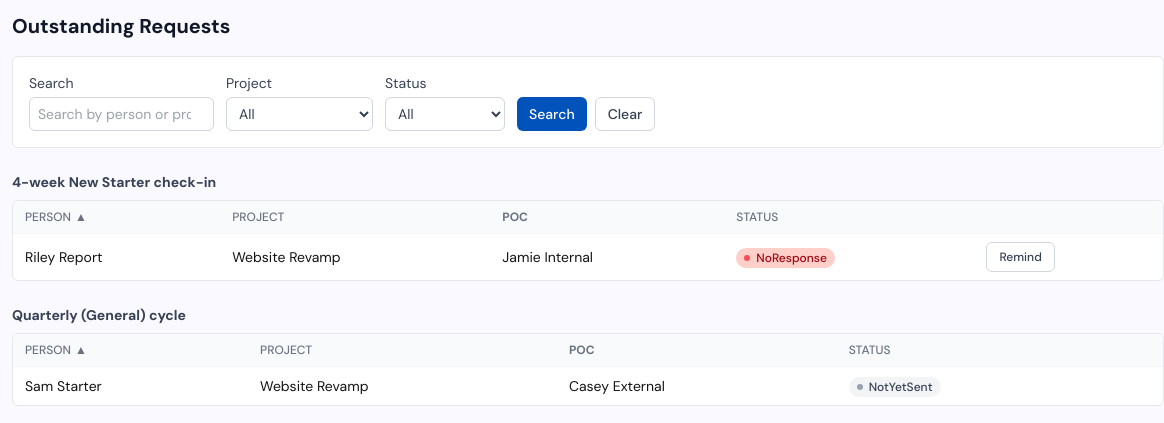
it: OutstandingRequestsPage › clicking Remind shows a failure state when the reminder fails
The image size is (1164, 423).
Click the button "Remind" at (1021, 257), box left=986, top=242, right=1055, bottom=272
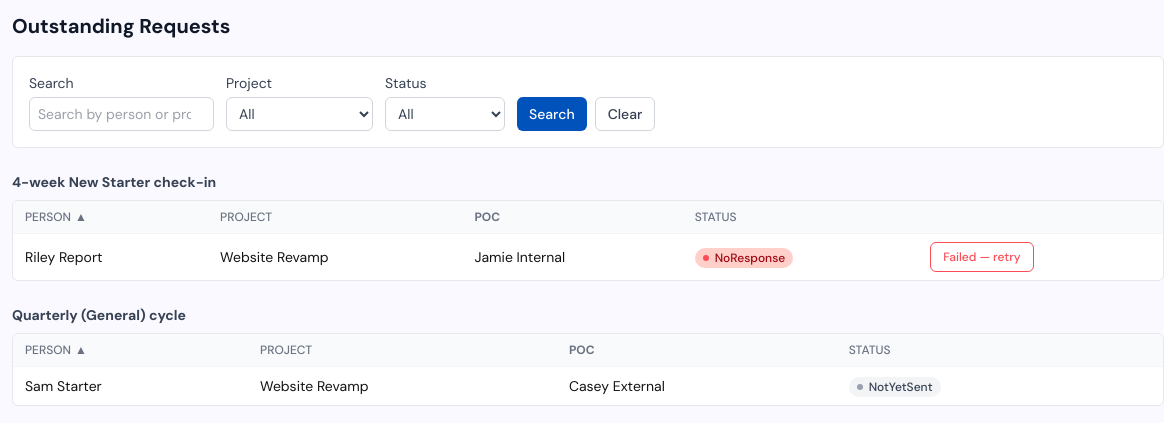
Expected: the button "Failed — retry" is shown, left=930, top=242, right=1034, bottom=272
